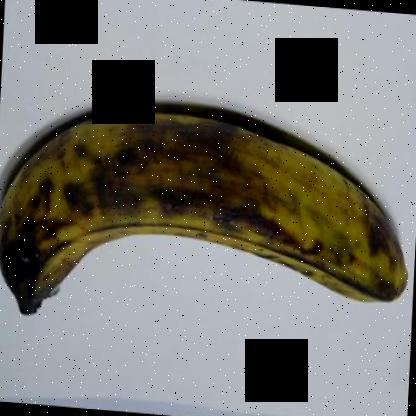overripe: (1, 103, 401, 334)
rotten: (1, 195, 73, 318)
